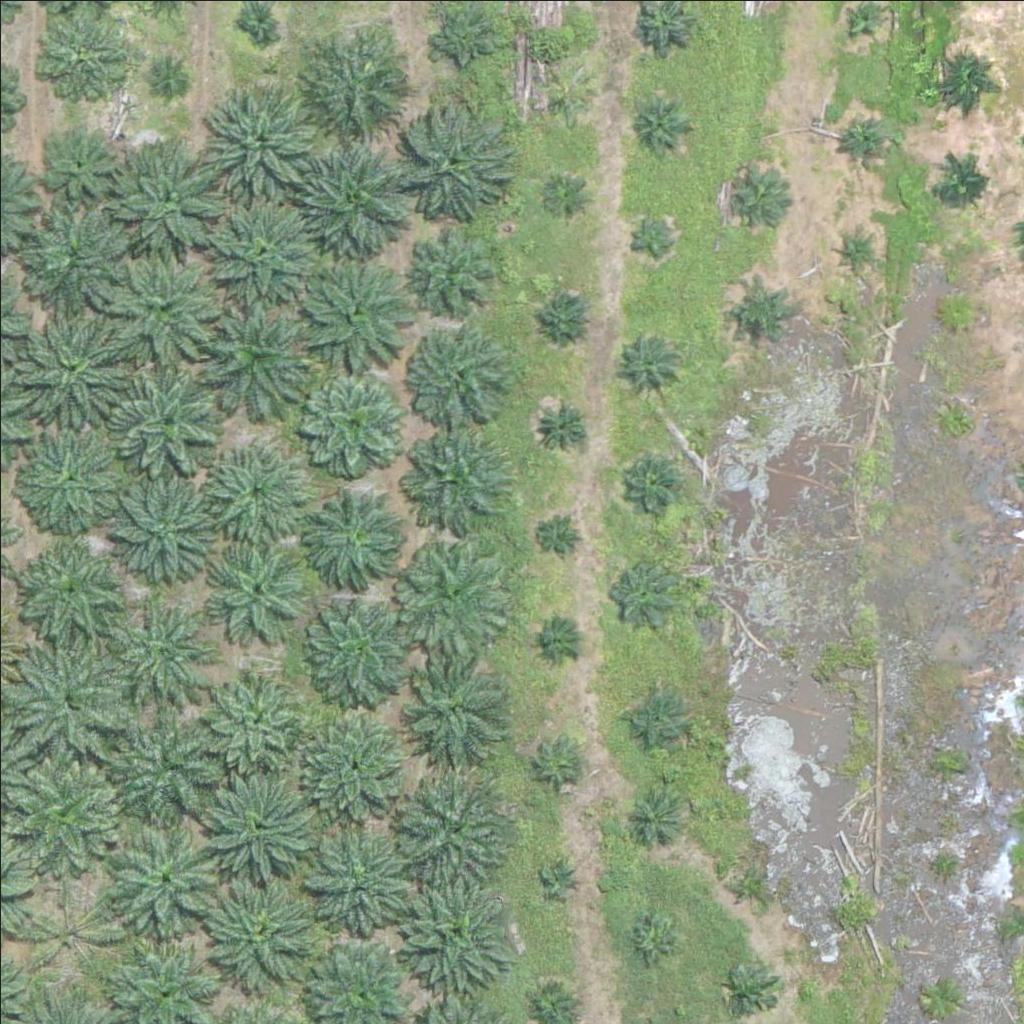Kelapa_Sawit: (188, 291, 313, 417), (390, 97, 515, 223), (205, 195, 318, 309), (295, 250, 408, 364), (297, 365, 410, 479), (393, 533, 506, 647), (14, 311, 127, 424), (28, 210, 141, 323), (207, 87, 320, 200), (294, 145, 407, 258), (303, 30, 416, 143), (396, 875, 509, 988), (395, 773, 508, 886), (395, 658, 508, 771), (112, 710, 225, 823), (104, 818, 217, 931), (8, 757, 121, 870), (12, 639, 125, 752), (16, 534, 129, 647), (303, 589, 416, 702), (115, 149, 227, 263), (401, 414, 513, 528), (104, 252, 216, 365), (197, 879, 309, 992), (201, 772, 313, 885), (105, 594, 217, 707), (109, 362, 221, 475), (18, 882, 118, 983), (298, 718, 398, 819), (302, 832, 402, 933), (201, 664, 301, 765), (19, 426, 119, 527), (112, 481, 212, 582), (204, 532, 304, 633), (407, 329, 507, 430), (203, 440, 303, 540), (299, 486, 399, 586), (39, 14, 127, 102), (409, 225, 497, 313), (46, 123, 121, 199), (604, 559, 679, 634), (718, 167, 781, 230), (729, 283, 792, 346), (620, 444, 683, 507), (631, 95, 694, 158), (530, 394, 593, 457), (929, 49, 991, 112), (930, 149, 992, 212), (621, 784, 683, 847), (622, 687, 684, 750), (620, 333, 682, 396), (432, 3, 494, 66), (534, 282, 596, 345), (531, 739, 581, 790), (540, 177, 590, 228), (541, 80, 591, 131), (625, 215, 675, 266), (535, 615, 585, 666), (729, 968, 779, 1018), (627, 912, 677, 962), (839, 118, 889, 168), (531, 508, 581, 558), (144, 60, 182, 98), (834, 232, 872, 270), (724, 866, 762, 904), (541, 857, 579, 895), (937, 292, 975, 330)
